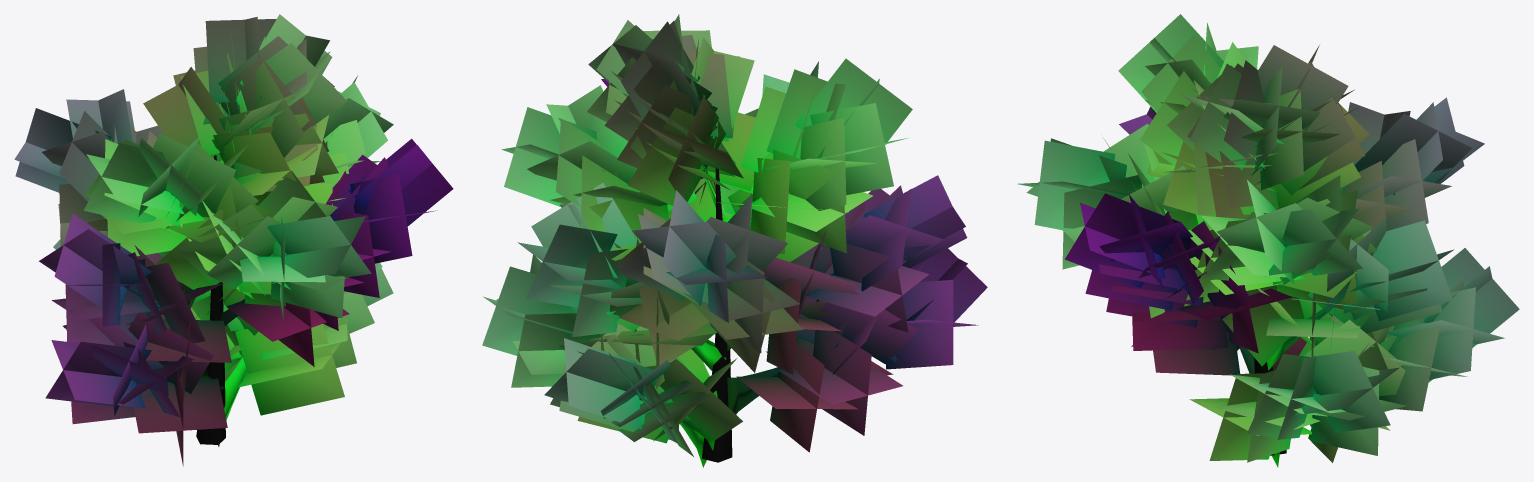
The model's file is URP_P11_Tree_4_LOD_3.fbx.
The picture shows the model from 3 angles, left to right: view 1: azimuth 30°, elevation 25°; view 2: azimuth 150°, elevation 25°; view 3: azimuth 270°, elevation 25°; orthographic projection. The views are drawn at different scales.
Visible parts, largest first — view 1: Tree_4_LOD_3; view 2: Tree_4_LOD_3; view 3: Tree_4_LOD_3.
Part boxes in pixels (x1,y1,x2,y2): Tree_4_LOD_3: [14, 14, 453, 466]; Tree_4_LOD_3: [482, 14, 987, 467]; Tree_4_LOD_3: [1017, 14, 1519, 467].
Size of the model in its own units: 560 by 581 by 600.
